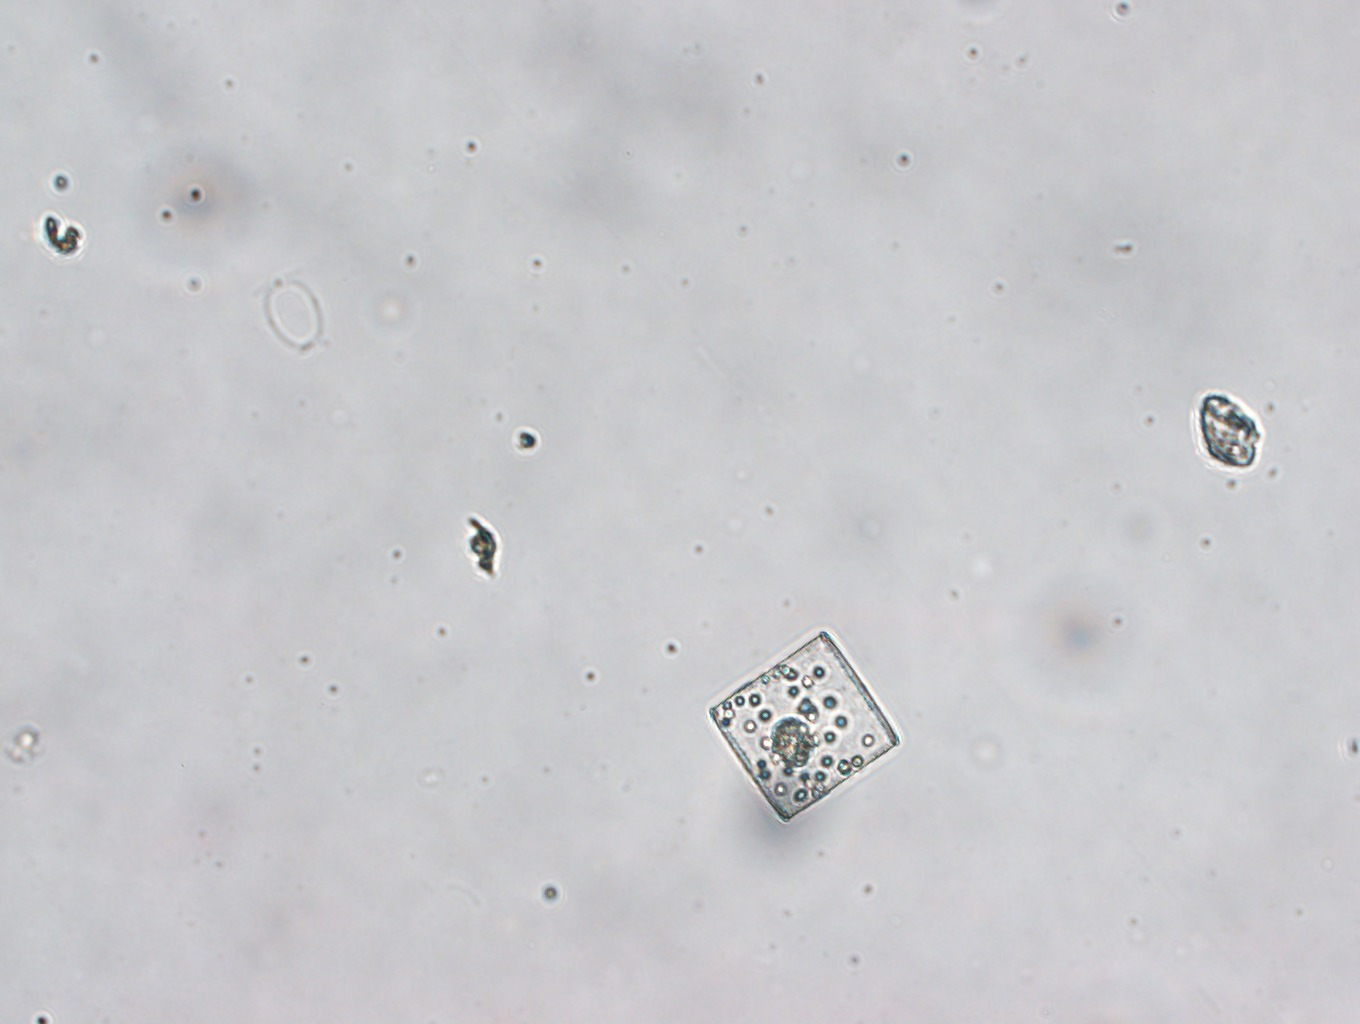guinardia flaccida: (708, 629, 901, 822)
